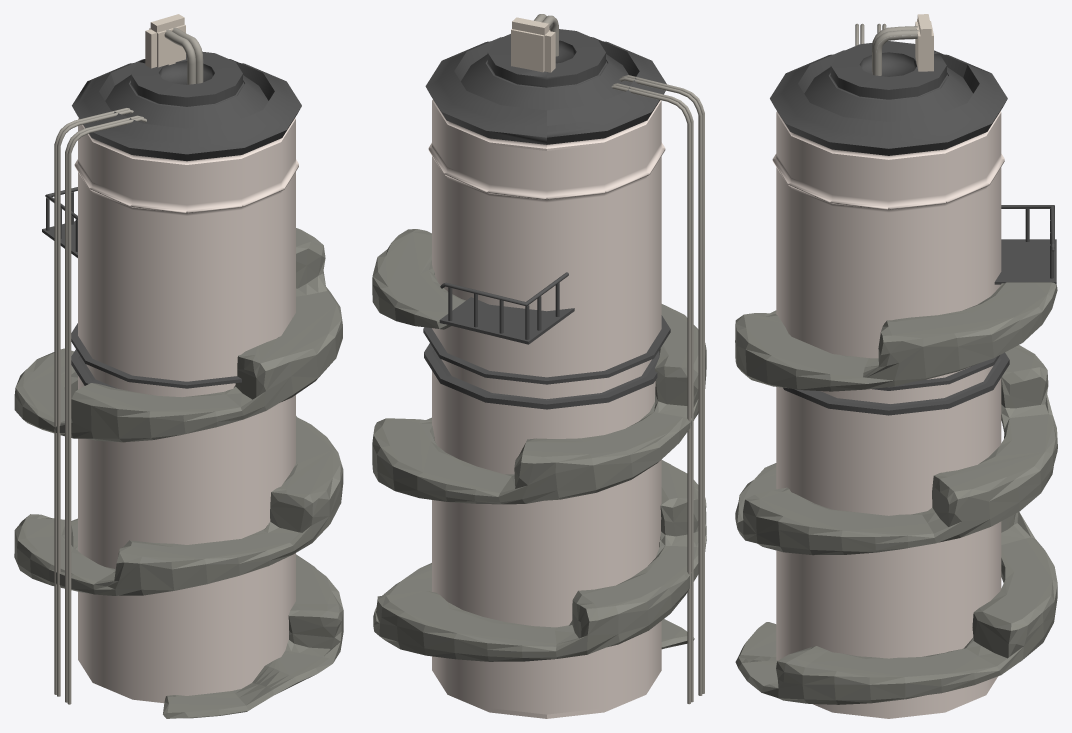
The model's file is bld_tower_industry_02.fbx.
The picture shows the model from 3 angles, left to right: view 1: azimuth 30°, elevation 25°; view 2: azimuth 150°, elevation 25°; view 3: azimuth 270°, elevation 25°; orthographic projection. The views are drawn at different scales.
Visible parts, largest first — view 1: bld_tower_industry_02; view 2: bld_tower_industry_02; view 3: bld_tower_industry_02.
Boxes of the visible parts, x1=… form: bld_tower_industry_02: x1=14, y1=14, x2=343, y2=718; bld_tower_industry_02: x1=372, y1=14, x2=706, y2=718; bld_tower_industry_02: x1=735, y1=14, x2=1057, y2=718.
Bounding box in the file's own units: 560 × 1233 × 555.
